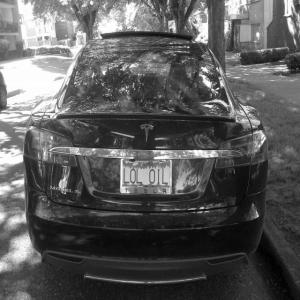Plate: (120, 159, 172, 194)
